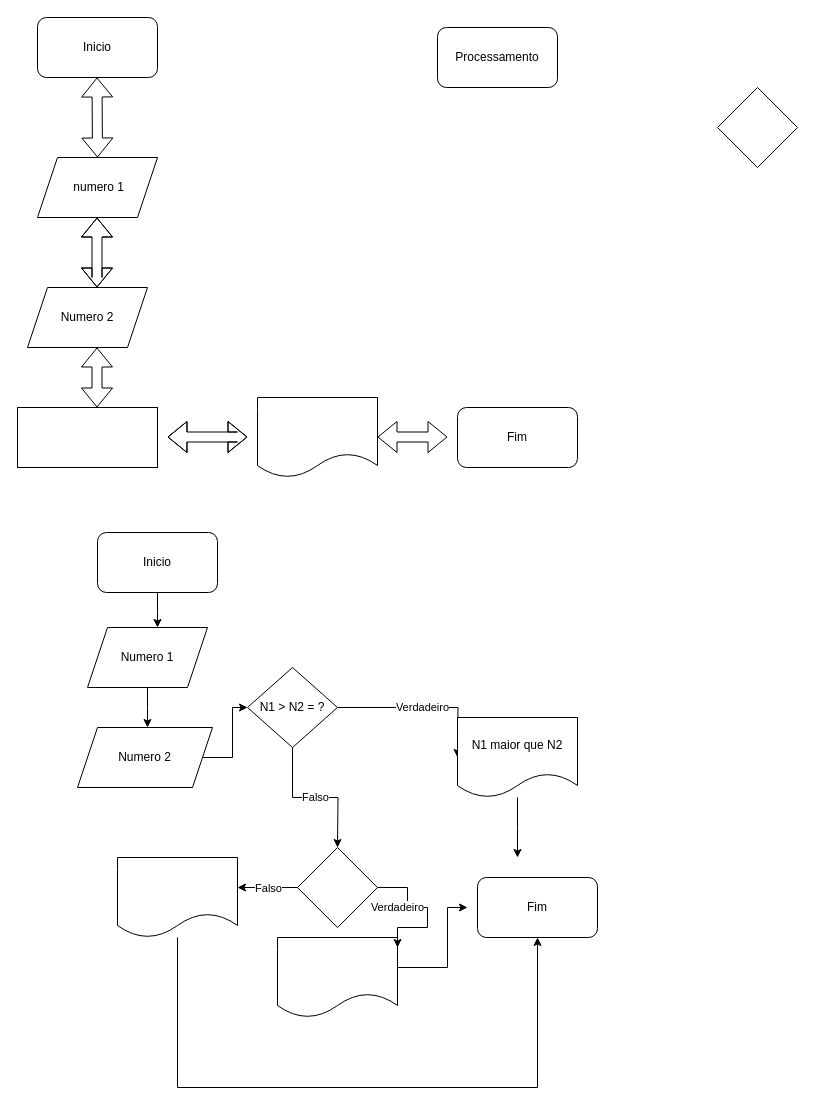
Image size: 815x1113. Some labels were removed from this diagram. The centre of each missing label's shape, as x and y in pixels:
Decisão: point (757, 127)
N1 < N2=?: point (337, 887)
N1 = N2: point (177, 897)
N1 menor que N2: point (337, 977)
Numero 3: point (317, 437)
Numero 3 = Numero 1 + Numero 2: point (87, 437)
